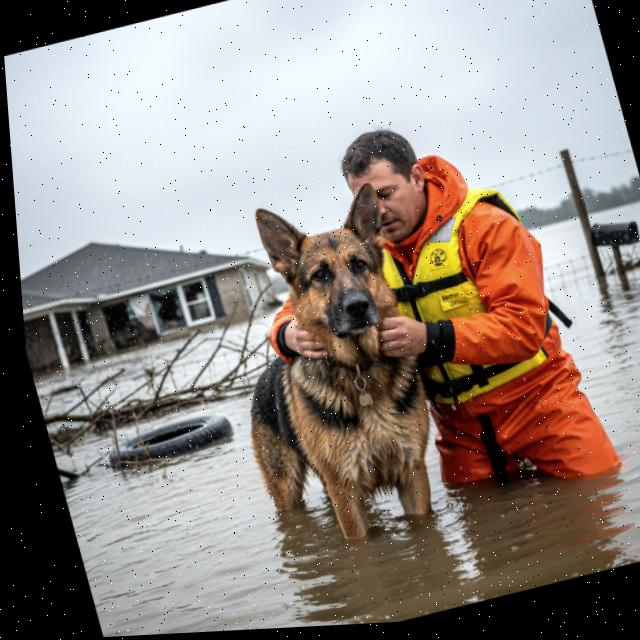dog: (165, 152, 491, 582)
rescuer: (213, 82, 640, 576)
